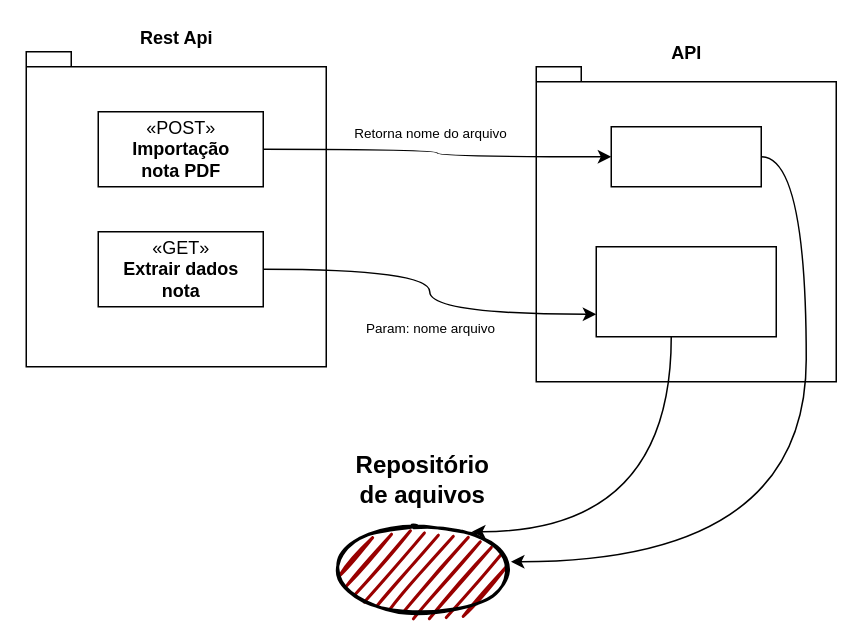
Some shapes in this 863 by 641 pixel diagram are drawn without their labels. Here are the shapes that lost their labels. From the top down, the centre of each, then its label:
[685,156]: Engine Importação
[685,291]: Engine Extração de dados PDF
